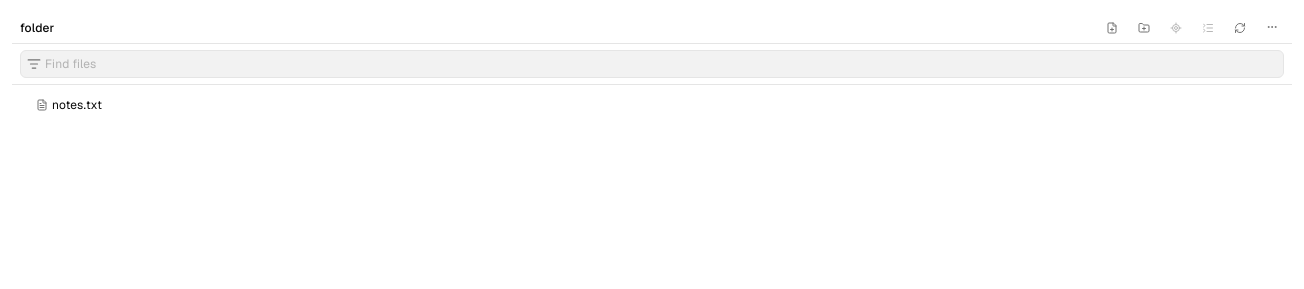
reveal in finder (fork shell.openPath → showItemInFolder semantics) › fails closed with an inline error when the shell bridge is absent
The width and height of the screenshot is (1304, 289).
Right-click the button "notes.txt" at (77, 105), box [12,93,1292,117]
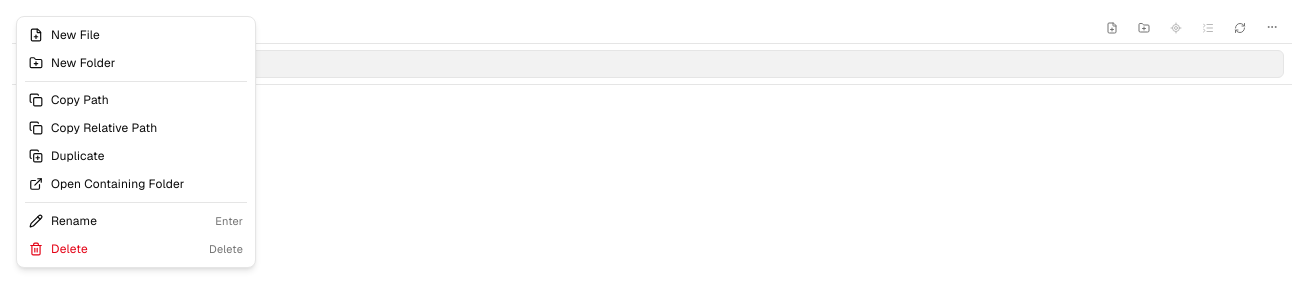
Click the menu item "Open Containing Folder" at (136, 184), box [21,170,251,198]
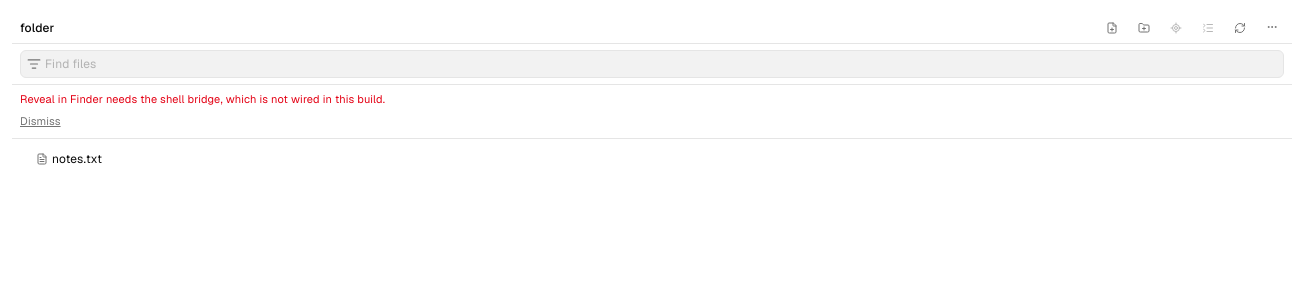
Check: the message shows "shell bridge", box [20,92,385,106]
